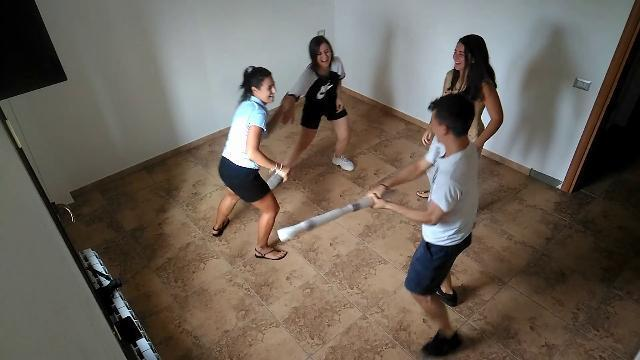non-violence: (208, 64, 292, 264), (421, 28, 505, 220), (270, 34, 358, 187)
violence: (280, 92, 482, 360)
